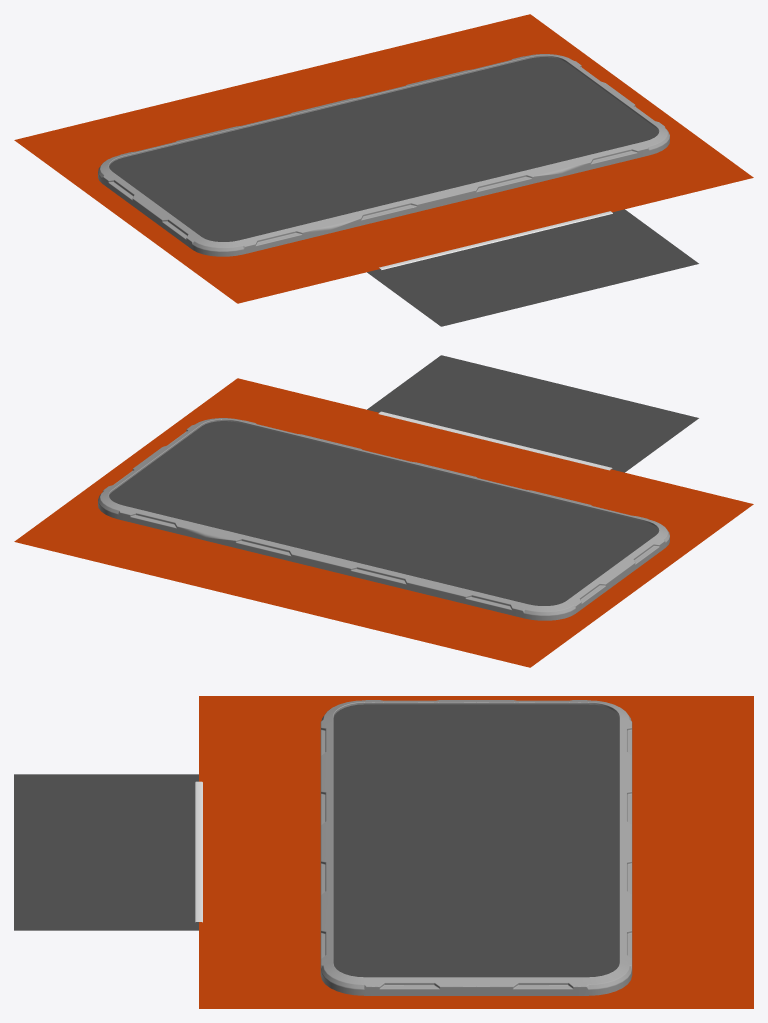
Rendered from floor_lv01_room_00_a.fbx.
3 renders of one model, top to bottom at view 1: azimuth 30°, elevation 25°; view 2: azimuth 150°, elevation 25°; view 3: azimuth 270°, elevation 25°, orthographic. The views are drawn at different scales.
Parts seen in each view (by area): view 1: room00_lv00_floor_a1_1; view 2: room00_lv00_floor_a1_1; view 3: room00_lv00_floor_a1_1.
Part boxes in pixels (x1,y1,x2,y2): room00_lv00_floor_a1_1: [14, 14, 753, 326]; room00_lv00_floor_a1_1: [14, 355, 753, 667]; room00_lv00_floor_a1_1: [14, 696, 753, 1008].
Bounding box in the file's own units: 1291 × 26.4 × 1291.
